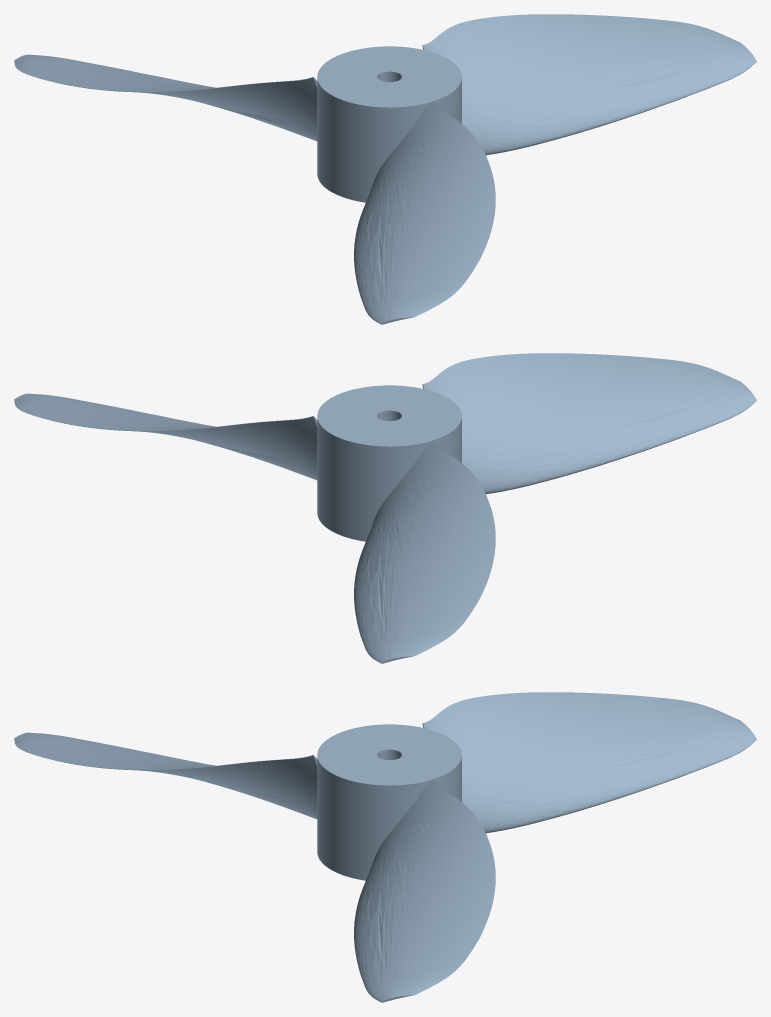
The picture shows the model from 3 angles, top to bottom: view 1: azimuth 30°, elevation 25°; view 2: azimuth 150°, elevation 25°; view 3: azimuth 270°, elevation 25°; orthographic projection.
Visible parts, largest first — view 1: 8in-3b.stl; view 2: 8in-3b.stl; view 3: 8in-3b.stl.
Boxes of the visible parts, bbox=[...] form: 8in-3b.stl: bbox=[14, 14, 756, 324]; 8in-3b.stl: bbox=[14, 353, 756, 663]; 8in-3b.stl: bbox=[14, 692, 756, 1002].
Size of the model in its own units: 0.1623 by 0.0266 by 0.18.
